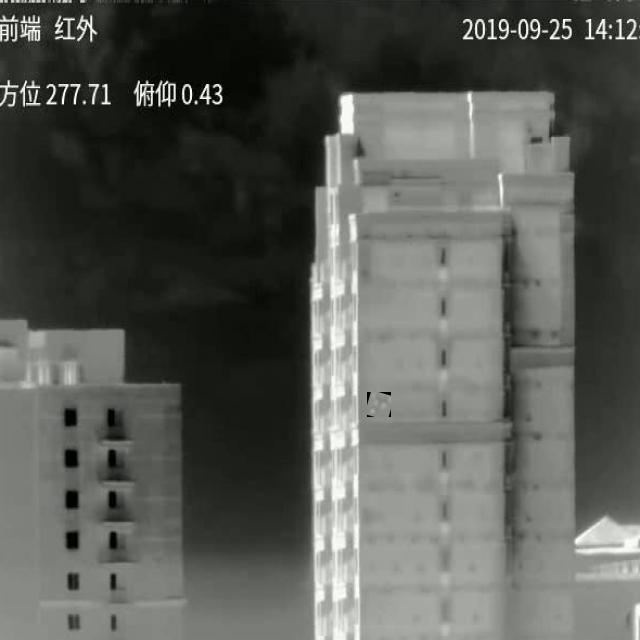drone: (368, 392, 391, 415)
